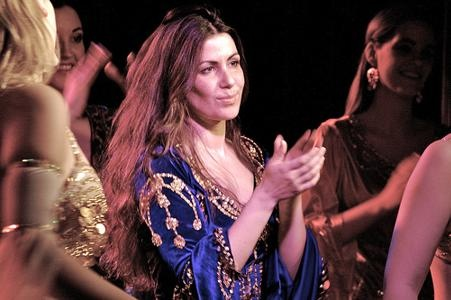person without safety: (129, 8, 326, 300)
